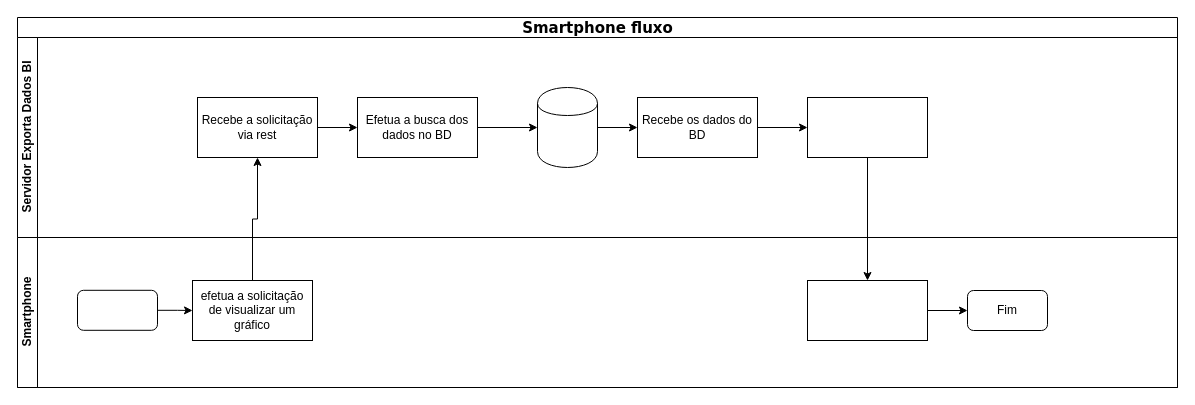
The diagram is 1195 pixels wide and 405 high, and some of its shapes have lost their labels. Here are the shapes that lost their labels. From the top down, the centre of each, then its label:
the point at 567,127: BD
the point at 867,127: Envia os dados via REST
the point at 117,309: Iniciar
the point at 867,310: Recebe os dados e mostra na tela
